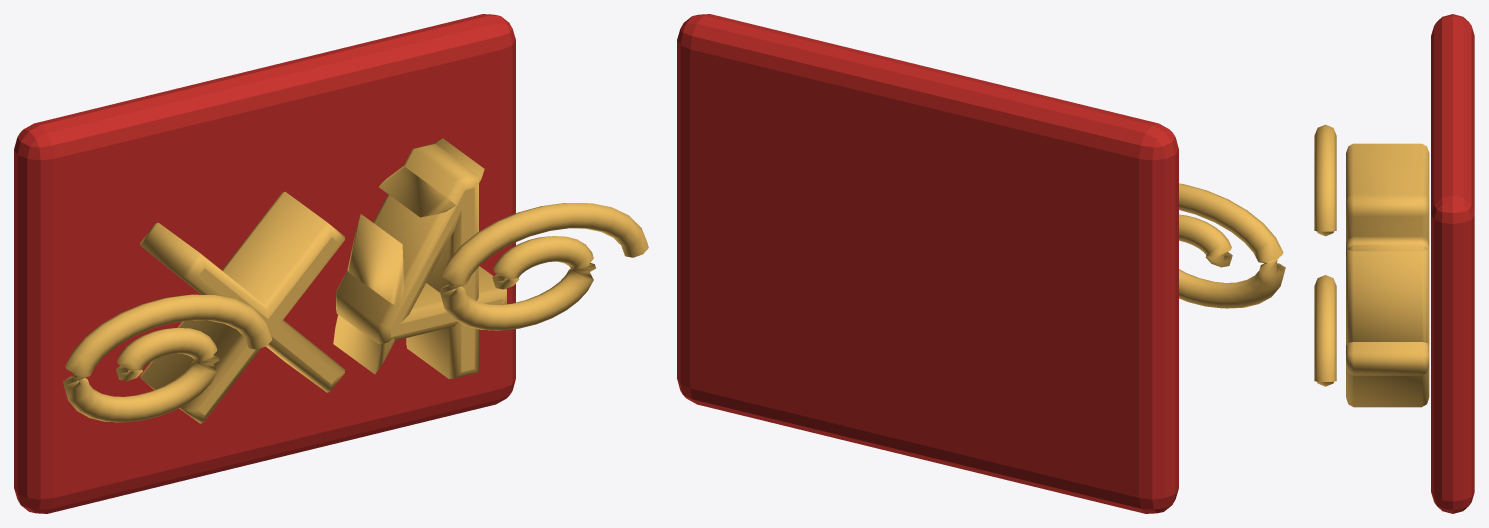
The model's file is word-times-4.glb.
3 renders of one model, left to right at view 1: azimuth 30°, elevation 25°; view 2: azimuth 150°, elevation 25°; view 3: azimuth 270°, elevation 25°, orthographic. The views are drawn at different scales.
Visible parts, largest first — view 1: word-times-4; view 2: word-times-4; view 3: word-times-4.
Boxes of the visible parts, x1,y1,x2,y2 form: word-times-4: (14, 14, 648, 513); word-times-4: (677, 14, 1285, 513); word-times-4: (1314, 14, 1474, 513).
Bounding box in the file's own units: 0.8871 × 0.5628 × 0.258.
